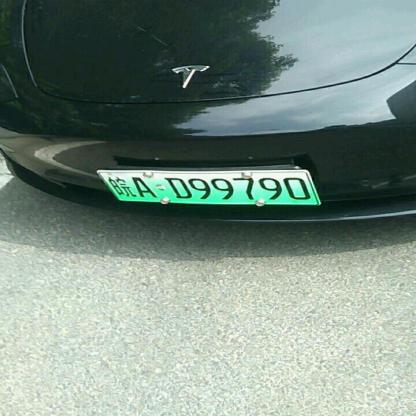lp: (99, 171, 318, 204)
